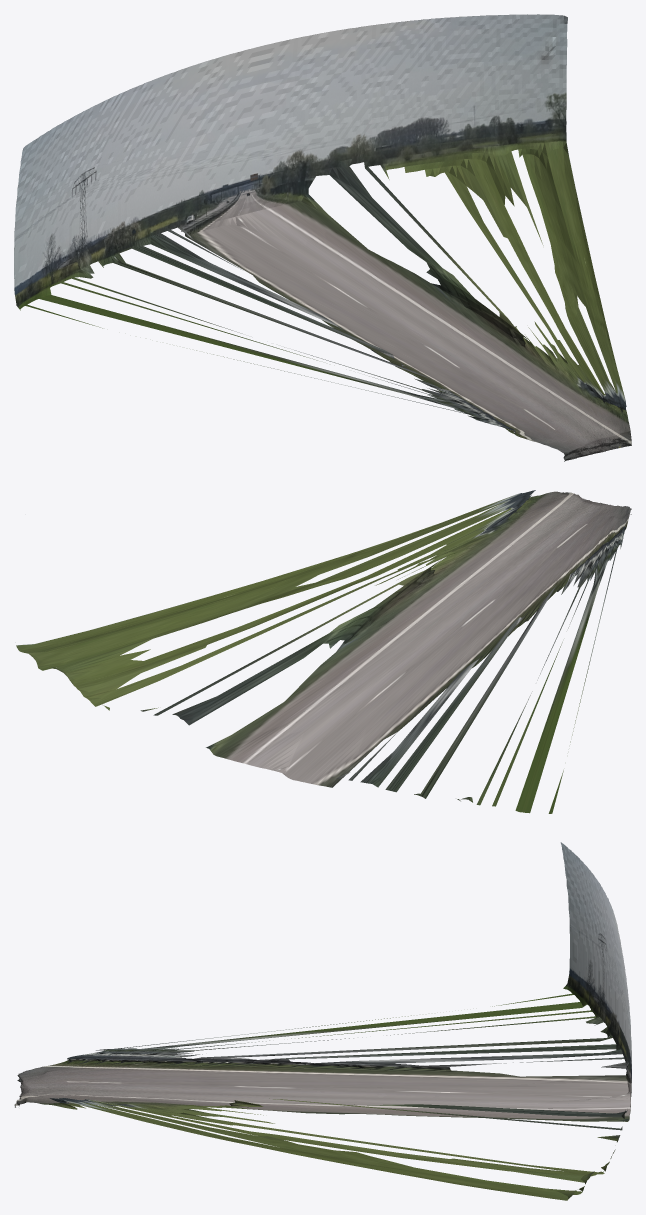
3 views of the same model, one above another, from view 1: azimuth 30°, elevation 25°; view 2: azimuth 150°, elevation 25°; view 3: azimuth 270°, elevation 25° (orthographic). The views are drawn at different scales.
Parts seen in each view (by area): view 1: defaultobject; view 2: defaultobject; view 3: defaultobject.
Boxes of the visible parts, x1=… form: defaultobject: x1=14, y1=14, x2=631, y2=461; defaultobject: x1=16, y1=490, x2=631, y2=813; defaultobject: x1=14, y1=842, x2=631, y2=1200.
Bounding box in the file's own units: 41.12 × 12.61 × 44.53.
1 material, 1 textured.
